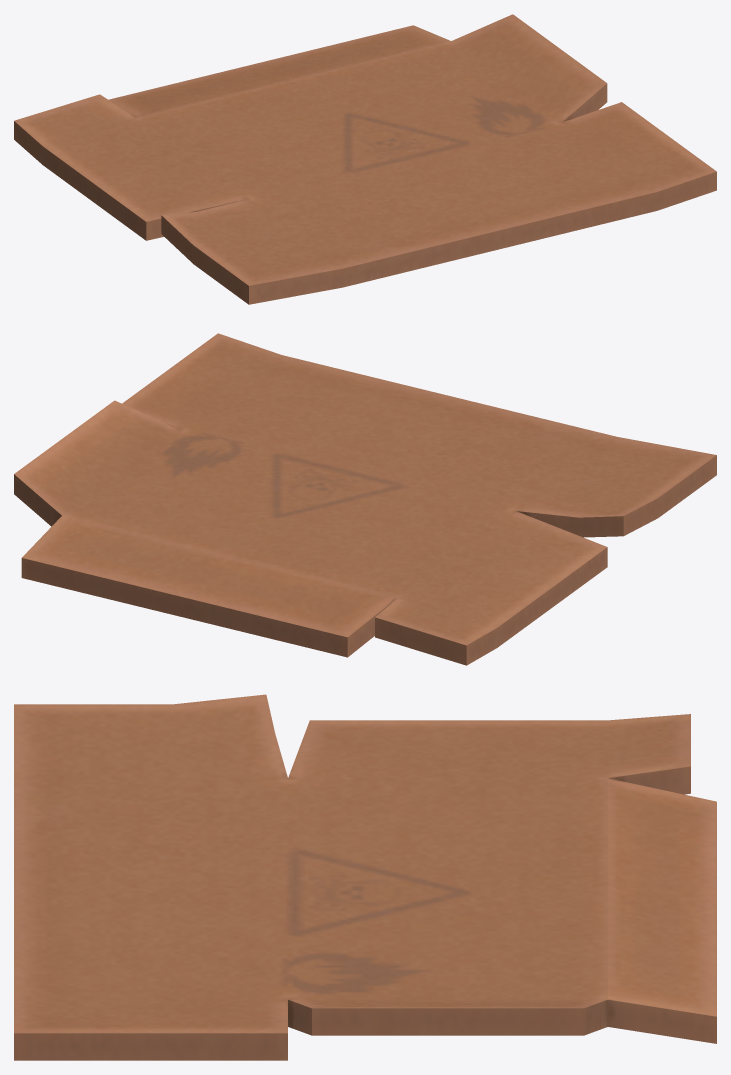
File: Pfb_PaperBox__20.fbx
The picture shows the model from 3 angles, top to bottom: view 1: azimuth 30°, elevation 25°; view 2: azimuth 150°, elevation 25°; view 3: azimuth 270°, elevation 25°; orthographic projection. The views are drawn at different scales.
Parts seen in each view (by area): view 1: Mat_PaperBox_02; view 2: Mat_PaperBox_02; view 3: Mat_PaperBox_02.
Part boxes in pixels (bbox=[...]): Mat_PaperBox_02: bbox=[14, 14, 716, 304]; Mat_PaperBox_02: bbox=[14, 333, 716, 665]; Mat_PaperBox_02: bbox=[14, 694, 716, 1060].
Size of the model in its own units: 1.14 by 0.1182 by 1.03.
1 material, 1 textured.
